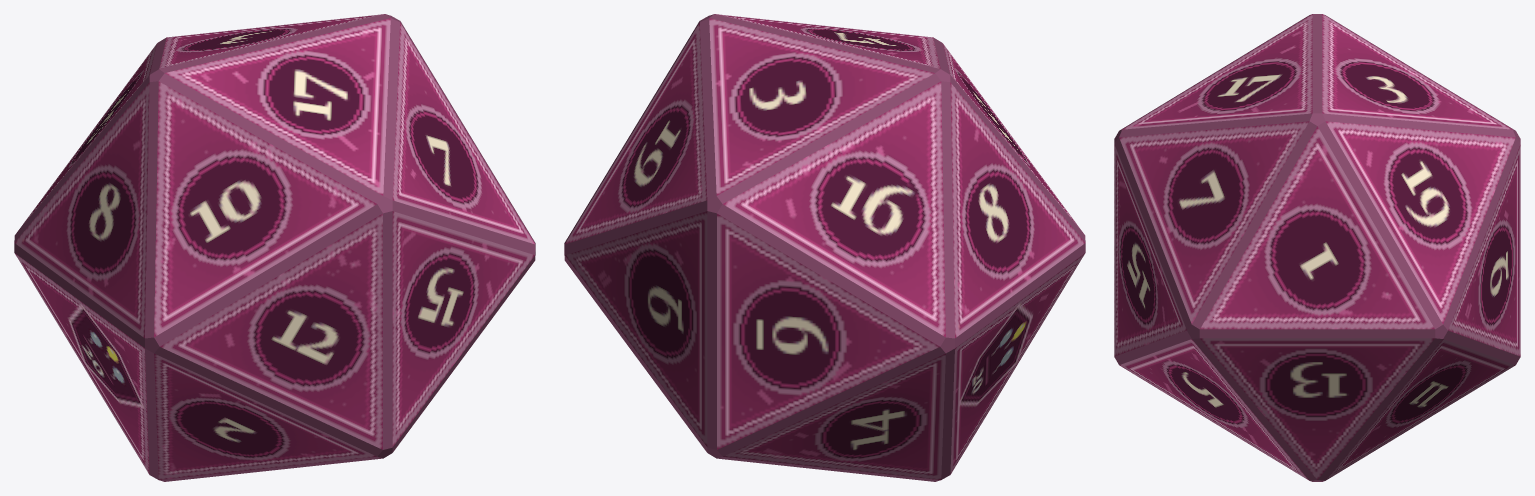
3 renders of one model, left to right at view 1: azimuth 30°, elevation 25°; view 2: azimuth 150°, elevation 25°; view 3: azimuth 270°, elevation 25°, orthographic. The views are drawn at different scales.
Bounding box in the file's own units: 160 × 160 × 160.
Materials: 1 (1 with a texture image).
